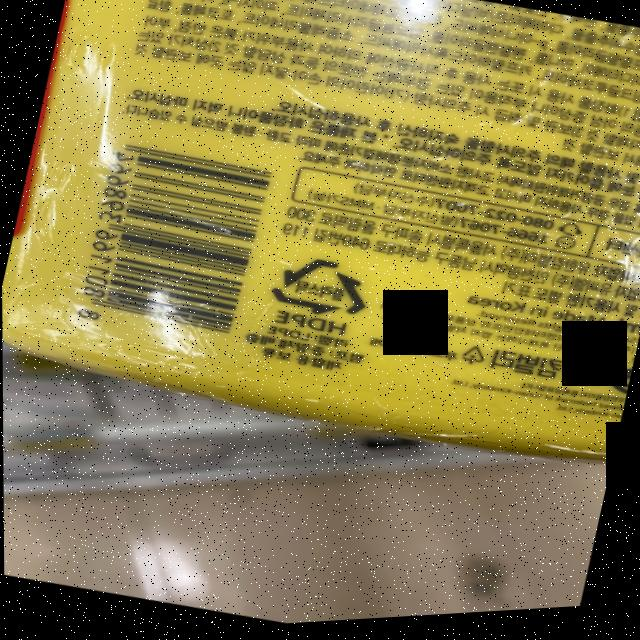Plastic: (262, 247, 378, 333)
